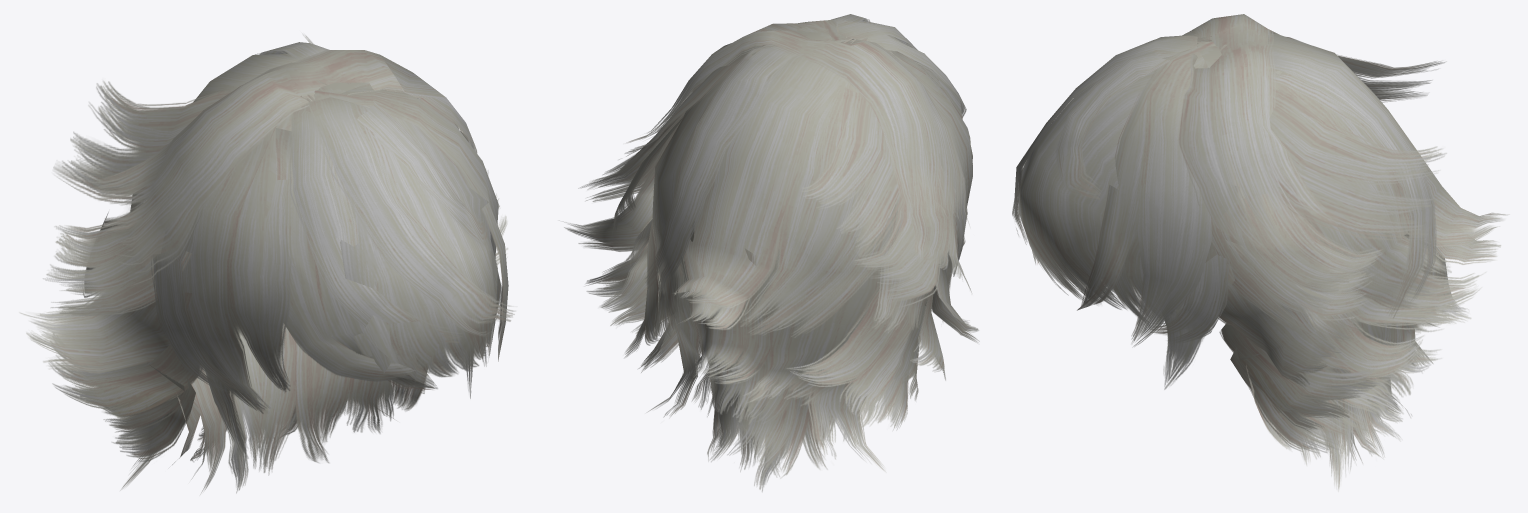
File: Hair0.glb
3 renders of one model, left to right at view 1: azimuth 30°, elevation 25°; view 2: azimuth 150°, elevation 25°; view 3: azimuth 270°, elevation 25°, orthographic. The views are drawn at different scales.
Parts seen in each view (by area): view 1: hair.003; view 2: hair.003; view 3: hair.003.
Boxes of the visible parts, box(x1,y1,x2,y2) form: hair.003: box(19, 33, 515, 494); hair.003: box(559, 14, 979, 492); hair.003: box(1012, 14, 1509, 491).
Size of the model in its own units: 22.15 by 21.29 by 21.95.
1 material, 1 textured.
